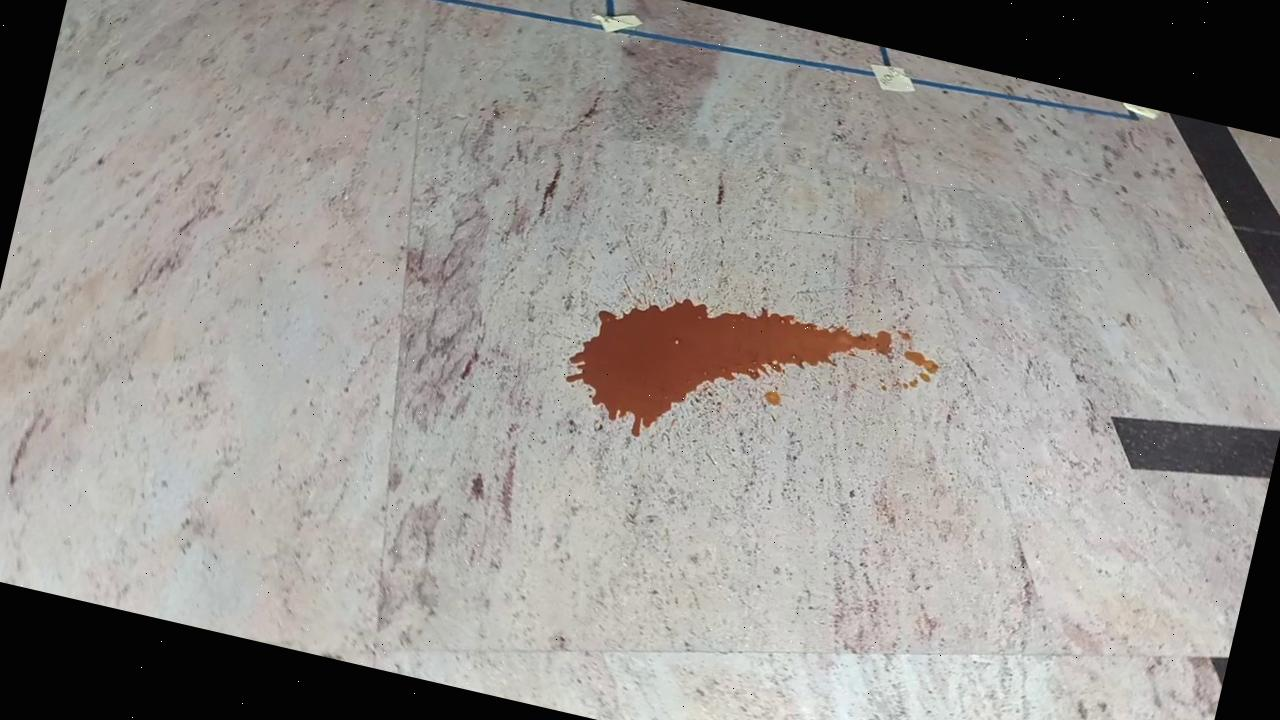dirty_floor: (555, 264, 946, 502)
